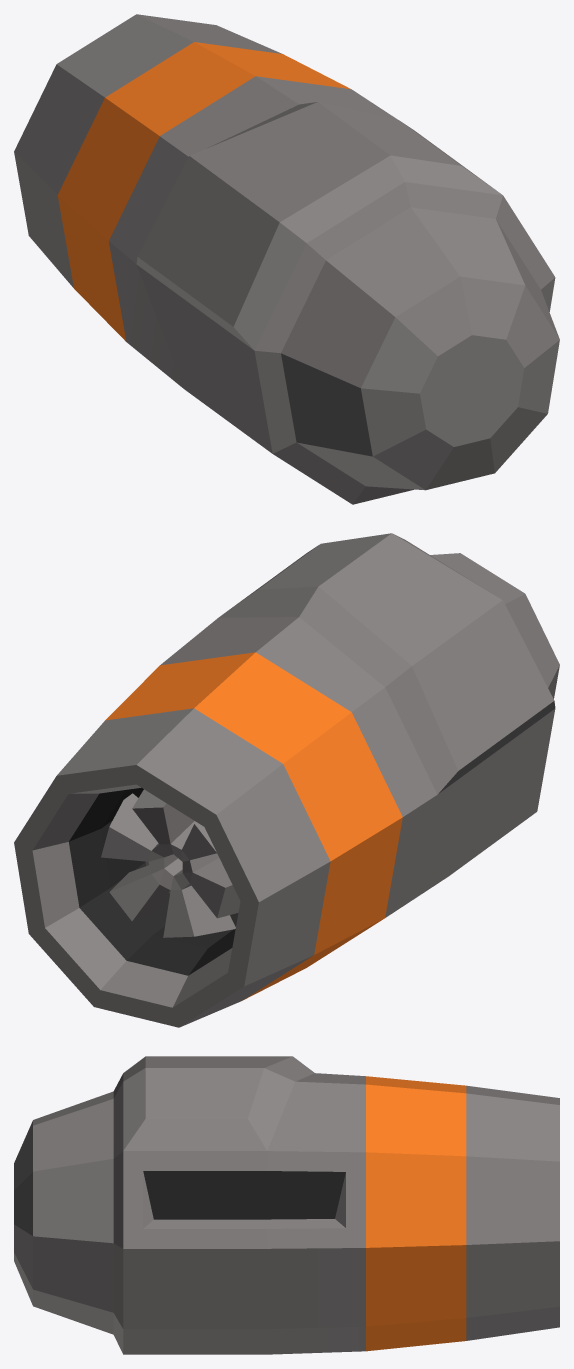
The model's file is scifi_scifi-ship-motor.fbx.
The picture shows the model from 3 angles, top to bottom: view 1: azimuth 30°, elevation 25°; view 2: azimuth 150°, elevation 25°; view 3: azimuth 270°, elevation 25°; orthographic projection. The views are drawn at different scales.
Visible parts, largest first — view 1: scifi_scifi_ship_motor; view 2: scifi_scifi_ship_motor; view 3: scifi_scifi_ship_motor.
Boxes of the visible parts, box(x1,y1,x2,y2) form: scifi_scifi_ship_motor: box(14, 14, 559, 504); scifi_scifi_ship_motor: box(14, 533, 559, 1027); scifi_scifi_ship_motor: box(14, 1056, 559, 1354).
Bounding box in the file's own units: 107 × 107 × 200.
